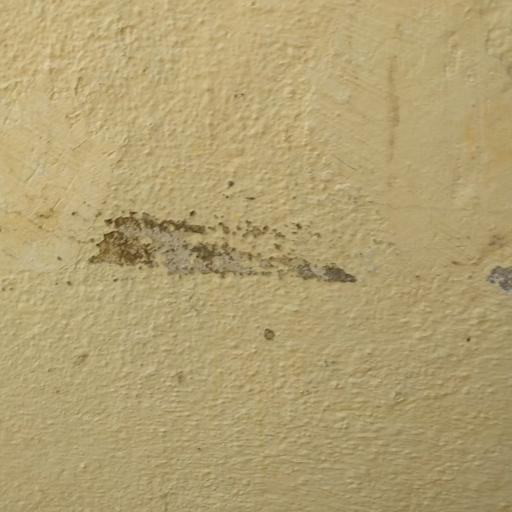stain: (62, 178, 386, 355), (463, 255, 512, 305)
